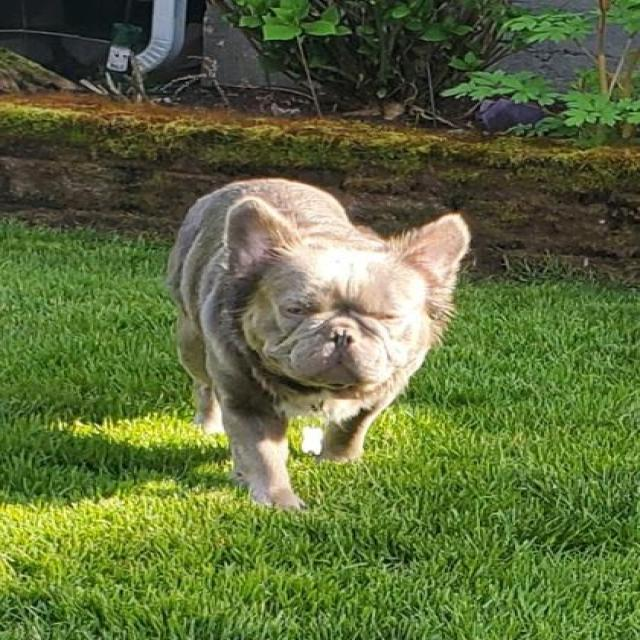french_bulldog_dog: (207, 194, 476, 403)
